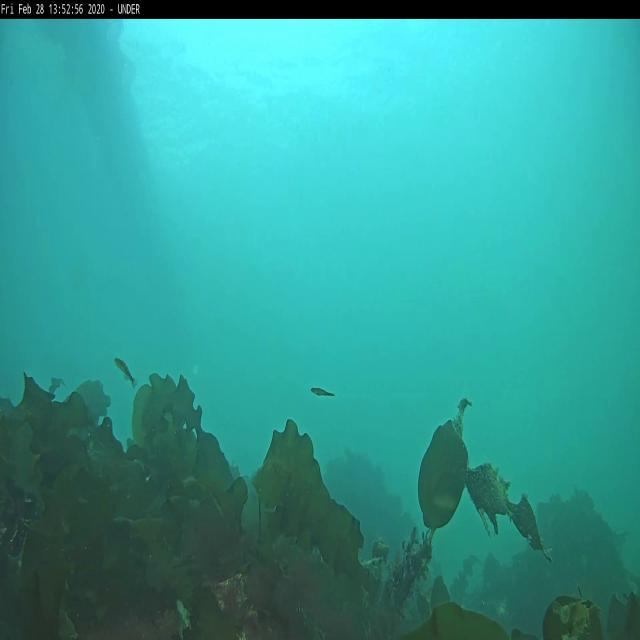fish: (114, 356, 136, 384), (311, 388, 335, 396)
